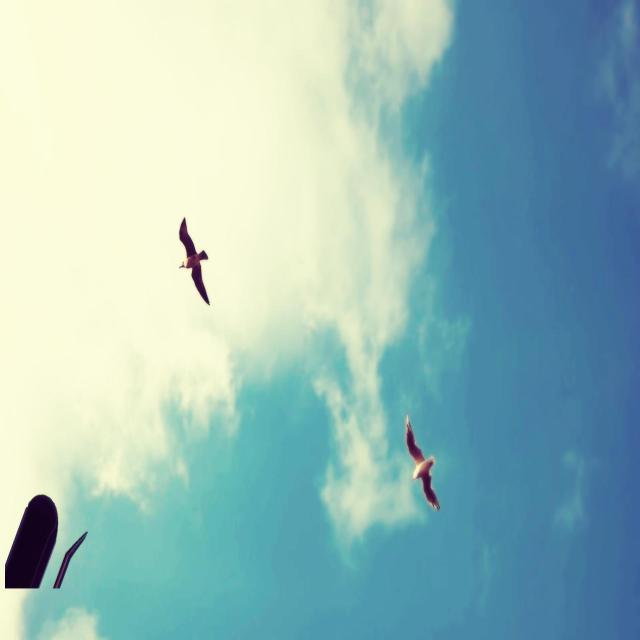airplane: (5, 490, 89, 590)
